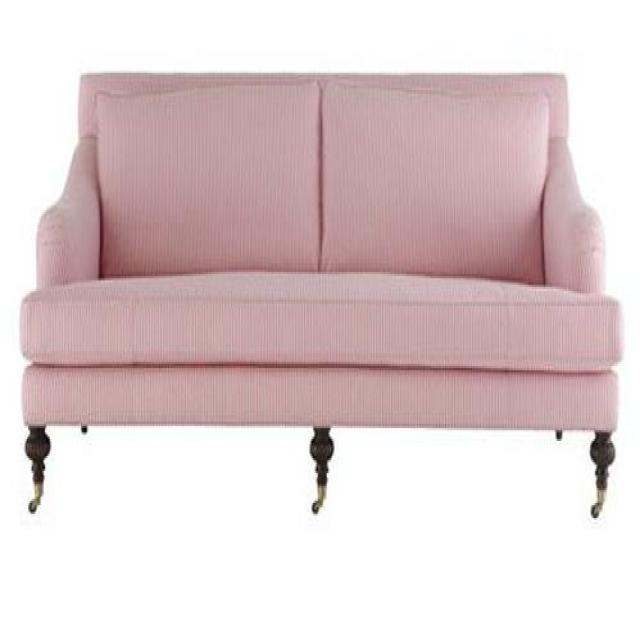sofa: (21, 66, 624, 526)
